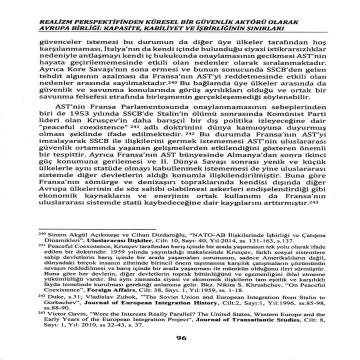footer: (44, 232, 336, 328)
header: (35, 17, 311, 32)
